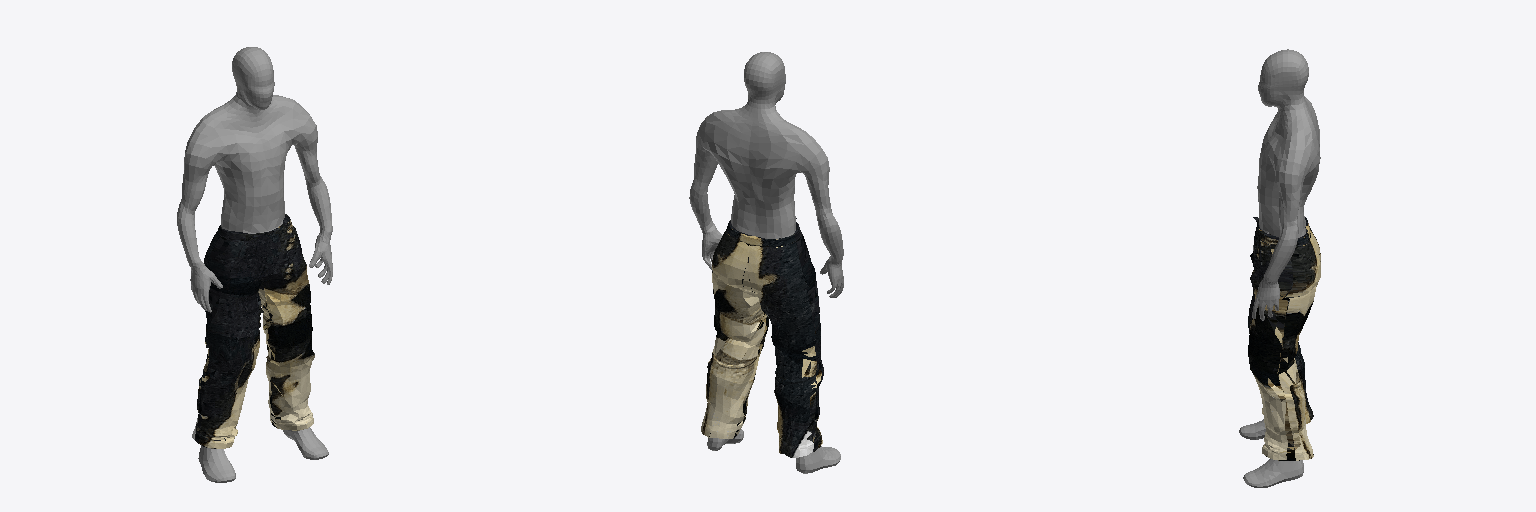
The picture shows the model from 3 angles: view 1: azimuth 30°, elevation 25°; view 2: azimuth 150°, elevation 25°; view 3: azimuth 270°, elevation 25°; orthographic projection.
Visible parts, largest first — view 1: Human_BaseMesh_Mesh, Object60.004; view 2: Object60.004, Human_BaseMesh_Mesh; view 3: Human_BaseMesh_Mesh, Object60.004.
Part boxes in pixels (x1,y1,x2,y2): Human_BaseMesh_Mesh: (177, 47, 332, 482); Object60.004: (192, 214, 314, 448); Object60.004: (701, 218, 823, 457); Human_BaseMesh_Mesh: (689, 52, 843, 473); Human_BaseMesh_Mesh: (1239, 49, 1320, 487); Object60.004: (1248, 217, 1320, 460).
Size of the model in its own units: 6.14 by 16.22 by 2.95.
Materials: 3 (1 with a texture image).